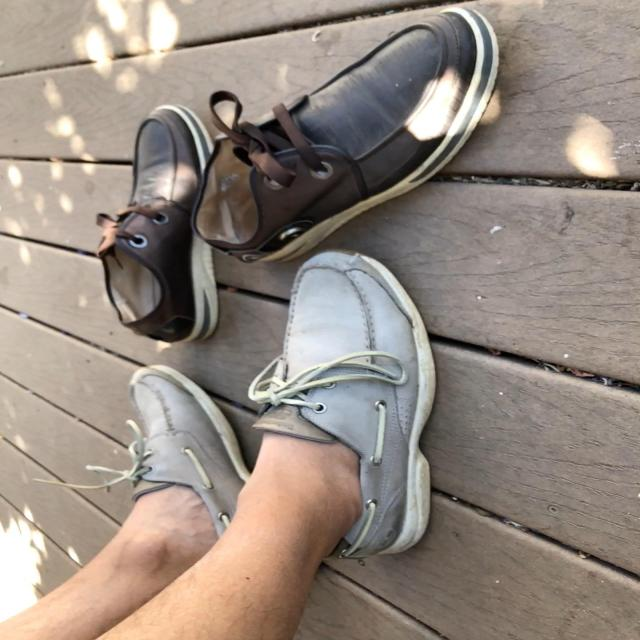shoe: (248, 254, 437, 560), (127, 367, 242, 535)
